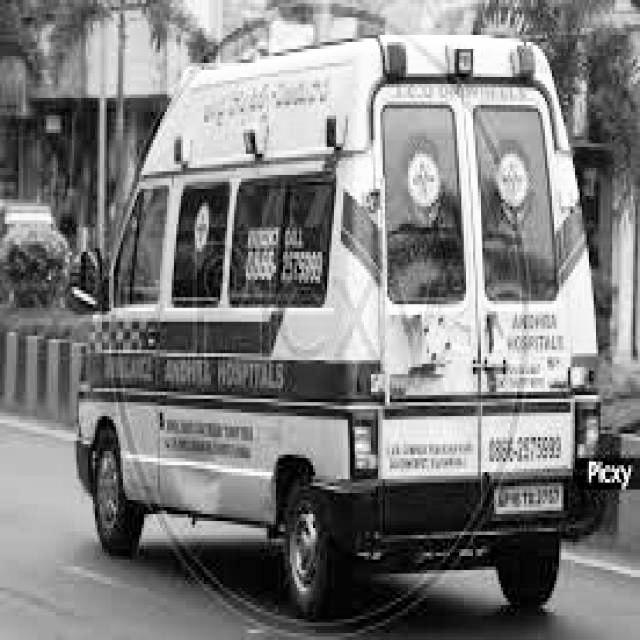LCV: (360, 37, 608, 555)
